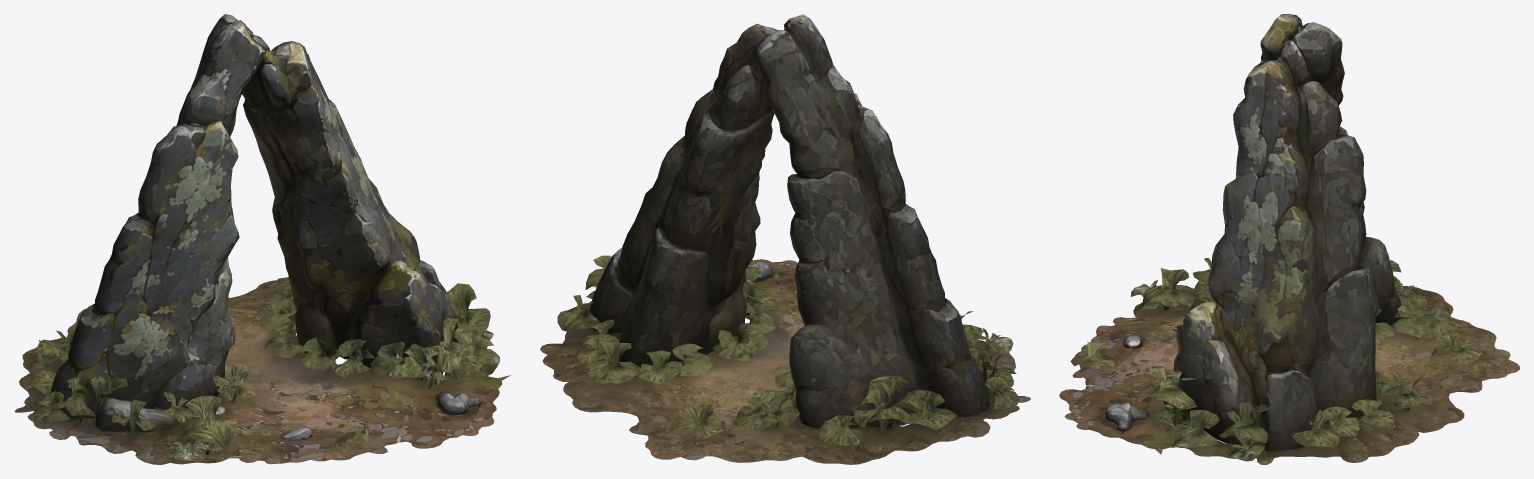
Rendered from act1-a17-1-leaning-stones.glb.
3 renders of one model, left to right at view 1: azimuth 30°, elevation 25°; view 2: azimuth 150°, elevation 25°; view 3: azimuth 270°, elevation 25°, orthographic. The views are drawn at different scales.
Parts seen in each view (by area): view 1: act1-a17-1-leaning-stones; view 2: act1-a17-1-leaning-stones; view 3: act1-a17-1-leaning-stones.
Part boxes in pixels (<box>): act1-a17-1-leaning-stones: <box>14,14,510,464</box>; act1-a17-1-leaning-stones: <box>540,14,1030,464</box>; act1-a17-1-leaning-stones: <box>1059,14,1519,464</box>.
Bounding box in the file's own units: 5.95 × 4.6 × 5.57.
Materials: 1 (1 with a texture image).
